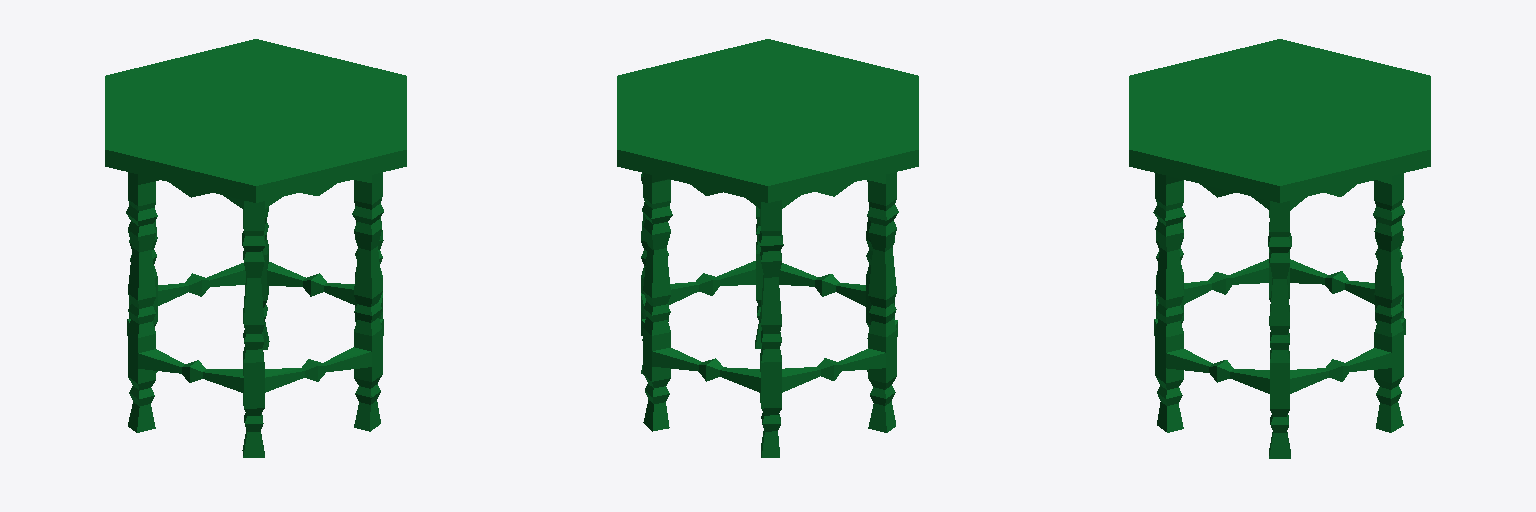
The model's file is table_model.obj.
The picture shows the model from 3 angles: view 1: azimuth 30°, elevation 25°; view 2: azimuth 150°, elevation 25°; view 3: azimuth 270°, elevation 25°; orthographic projection.
Parts seen in each view (by area): view 1: chair; view 2: chair; view 3: chair.
Boxes of the visible parts, x1=… form: chair: x1=105, y1=39, x2=406, y2=457; chair: x1=617, y1=39, x2=918, y2=457; chair: x1=1129, y1=39, x2=1430, y2=458.
Size of the model in its own units: 15.9 by 14.43 by 13.77.